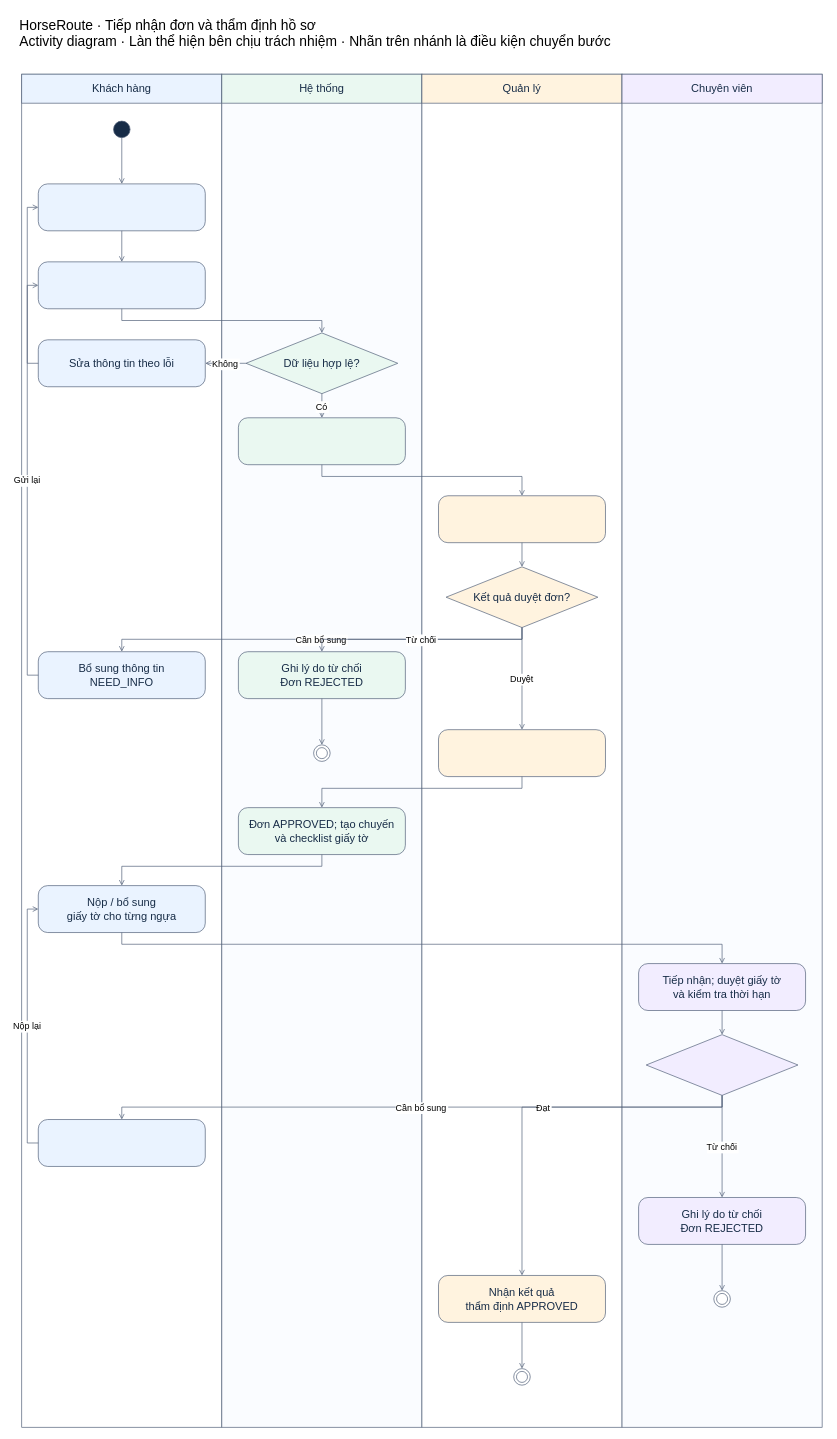
This 837x1439 diagram has some shape labels left out. Each missing label, with the centre of its shape:
Duyệt đơn; chọn điều phối viên phụ trách: the point at 521,753
Ghi nhận đơn PENDING: the point at 321,441
Kết luận thẩm định?: the point at 721,1064
Lưu nháp và gửi đơn: the point at 121,285
Nhận yêu cầu bổ sung NEED_INFO: the point at 121,1142
Nhập thông tin vận chuyển, ngựa và người gửi / nhận: the point at 121,207
Xem xét yêu cầu vận chuyển: the point at 521,519
